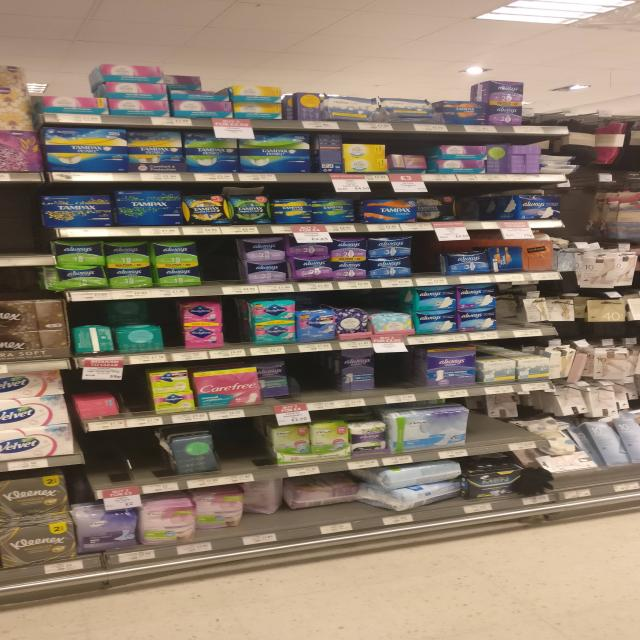empty: (86, 429, 176, 483), (8, 188, 57, 268), (466, 389, 526, 450), (283, 358, 349, 405), (376, 351, 436, 399), (214, 426, 273, 471), (200, 245, 248, 284)
